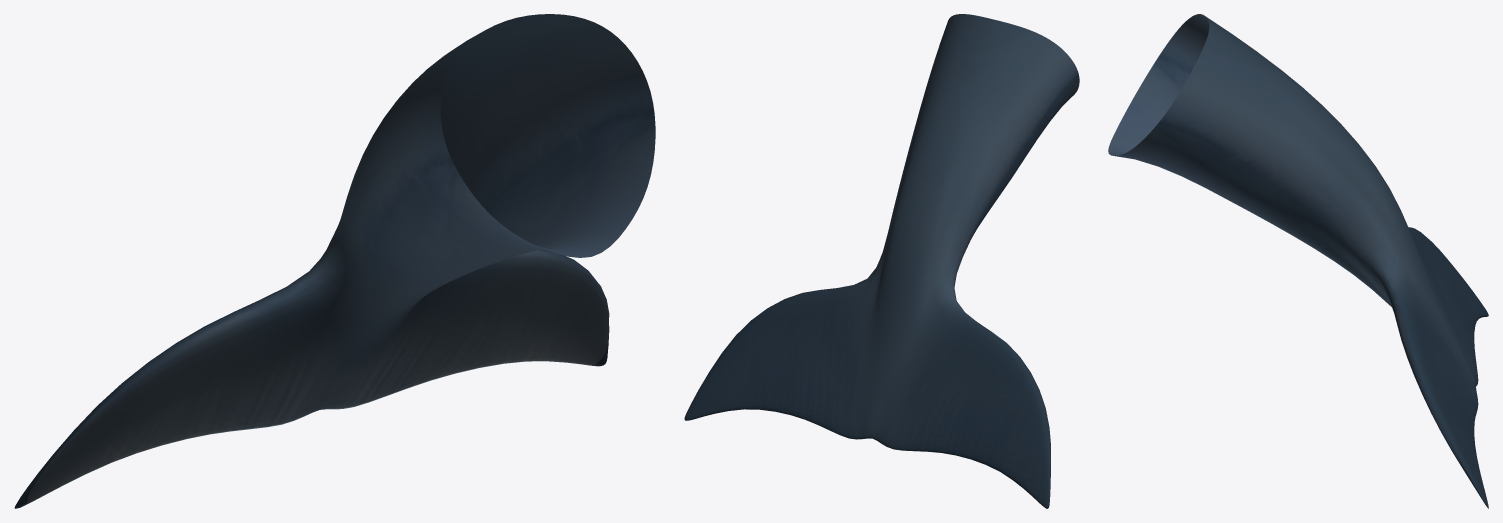
Rendered from colaDelfin.obj.
3 renders of one model, left to right at view 1: azimuth 30°, elevation 25°; view 2: azimuth 150°, elevation 25°; view 3: azimuth 270°, elevation 25°, orthographic. The views are drawn at different scales.
Parts seen in each view (by area): view 1: polySurface2 _dolphin_v2_max2011_it2:dolphin; view 2: polySurface2 _dolphin_v2_max2011_it2:dolphin; view 3: polySurface2 _dolphin_v2_max2011_it2:dolphin.
Part boxes in pixels (<box>): polySurface2 _dolphin_v2_max2011_it2:dolphin: <box>14,14,655,508</box>; polySurface2 _dolphin_v2_max2011_it2:dolphin: <box>684,14,1079,508</box>; polySurface2 _dolphin_v2_max2011_it2:dolphin: <box>1108,14,1488,508</box>.
Bounding box in the file's own units: 4.76 × 4.39 × 3.93.
1 material, 1 textured.
